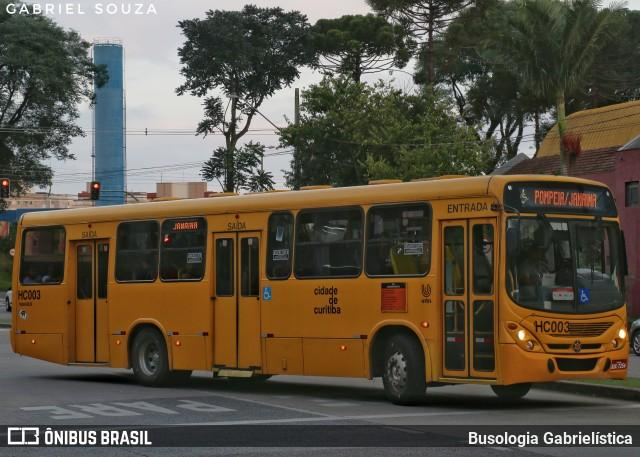POMPEIA JANAINA: (529, 187, 601, 209)
